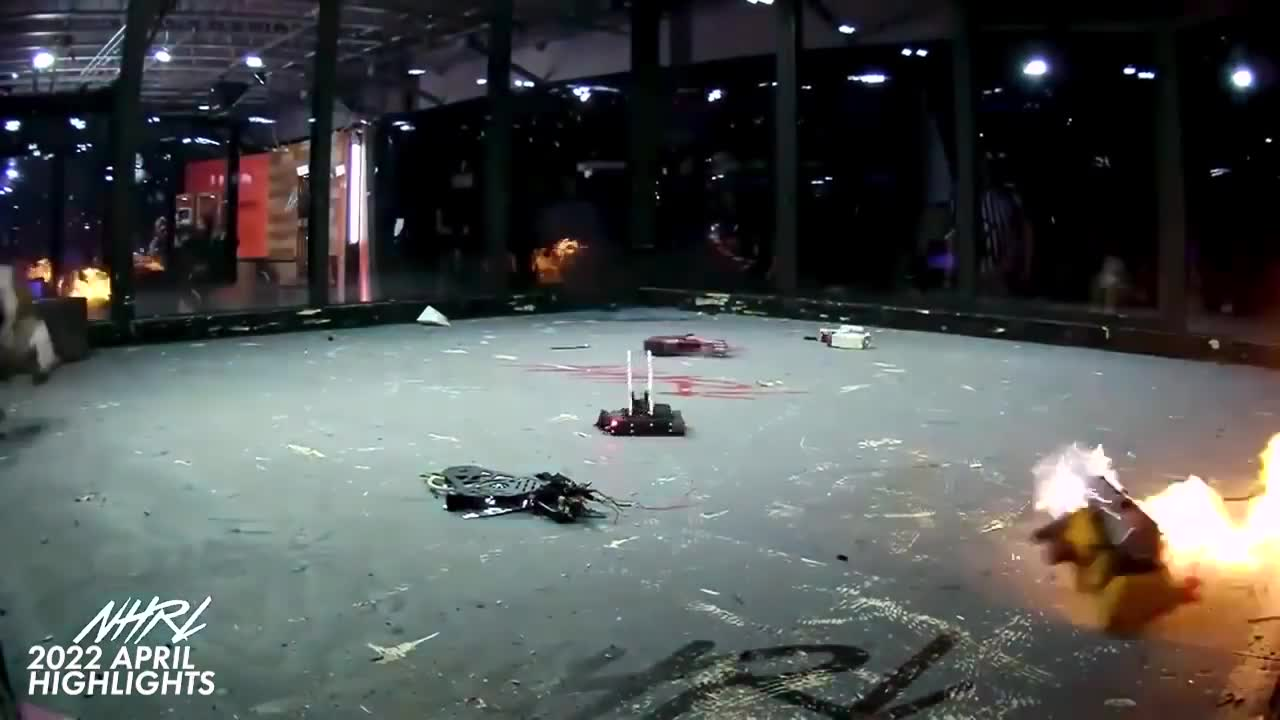combatbot: (1027, 472, 1165, 597), (426, 465, 595, 526), (595, 399, 691, 440), (641, 333, 736, 360), (817, 328, 873, 351)
